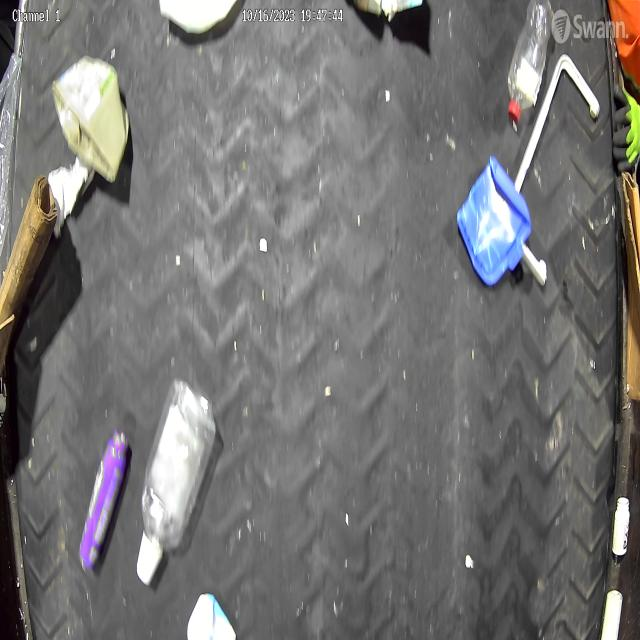plastic_bottle: (136, 378, 217, 586), (506, 0, 553, 124)
